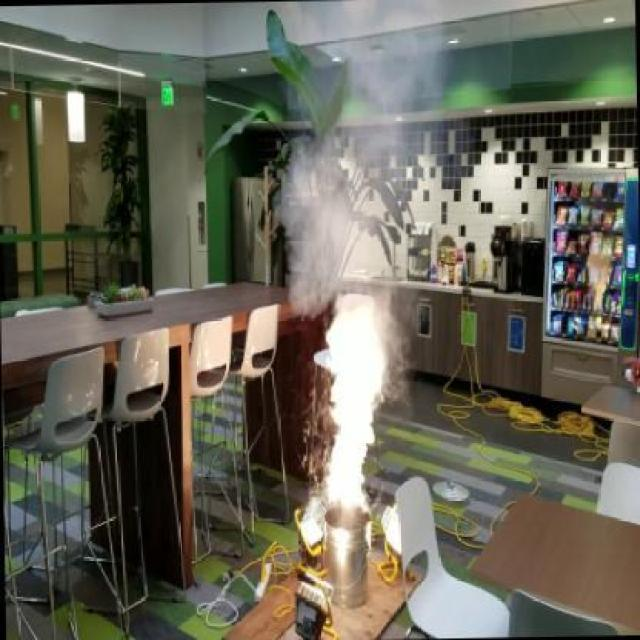fire: (283, 0, 426, 311), (313, 306, 404, 492)
